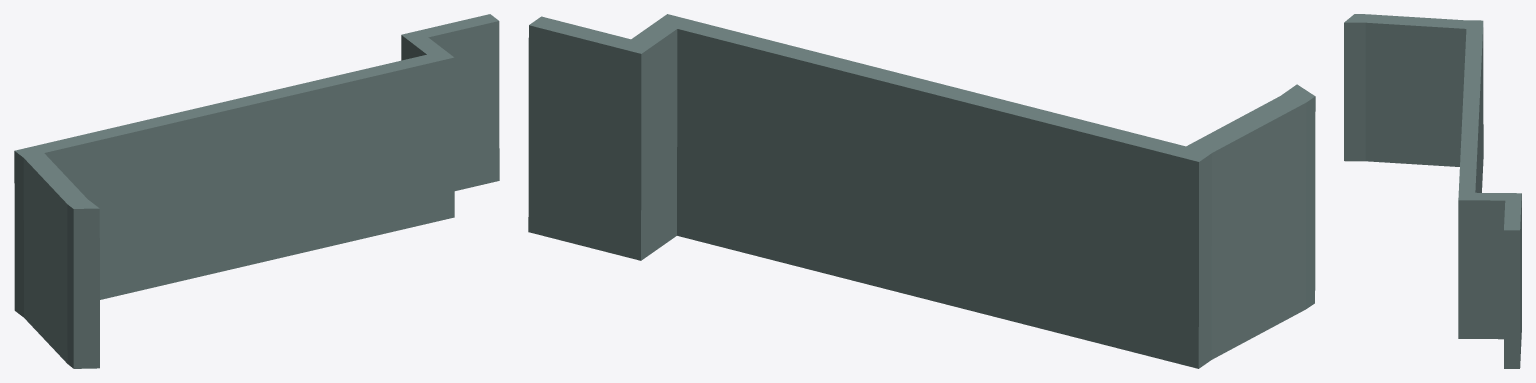
Rendered from UedaCampusEntranceGate_wallL.fbx.
The picture shows the model from 3 angles, left to right: view 1: azimuth 30°, elevation 25°; view 2: azimuth 150°, elevation 25°; view 3: azimuth 270°, elevation 25°; orthographic projection. The views are drawn at different scales.
Visible parts, largest first — view 1: UedaCampusEntranceGate_wallL; view 2: UedaCampusEntranceGate_wallL; view 3: UedaCampusEntranceGate_wallL.
Part boxes in pixels (bbox=[...]): UedaCampusEntranceGate_wallL: bbox=[14, 14, 499, 368]; UedaCampusEntranceGate_wallL: bbox=[528, 14, 1315, 368]; UedaCampusEntranceGate_wallL: bbox=[1344, 14, 1521, 368].
Bounding box in the file's own units: 6.51 × 1.94 × 2.26.
